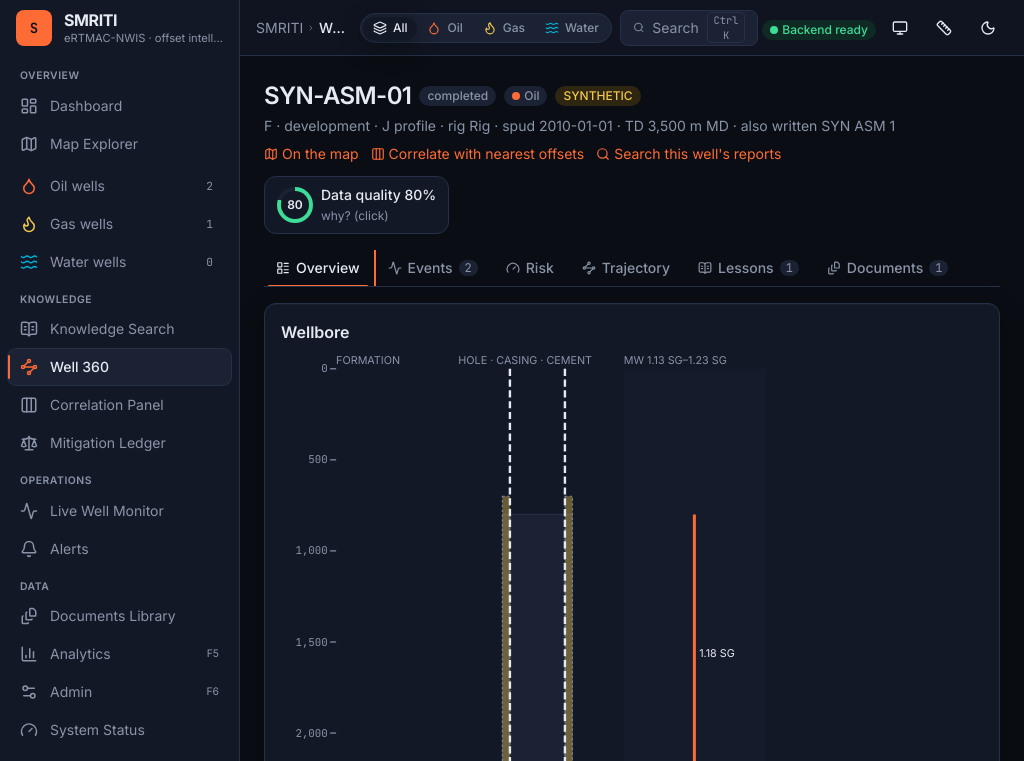
Test case: Well 360 › has lessons and documents tabs, and keyboard-navigable tabs
Press Arrowright Arrowright Arrowright {Arr
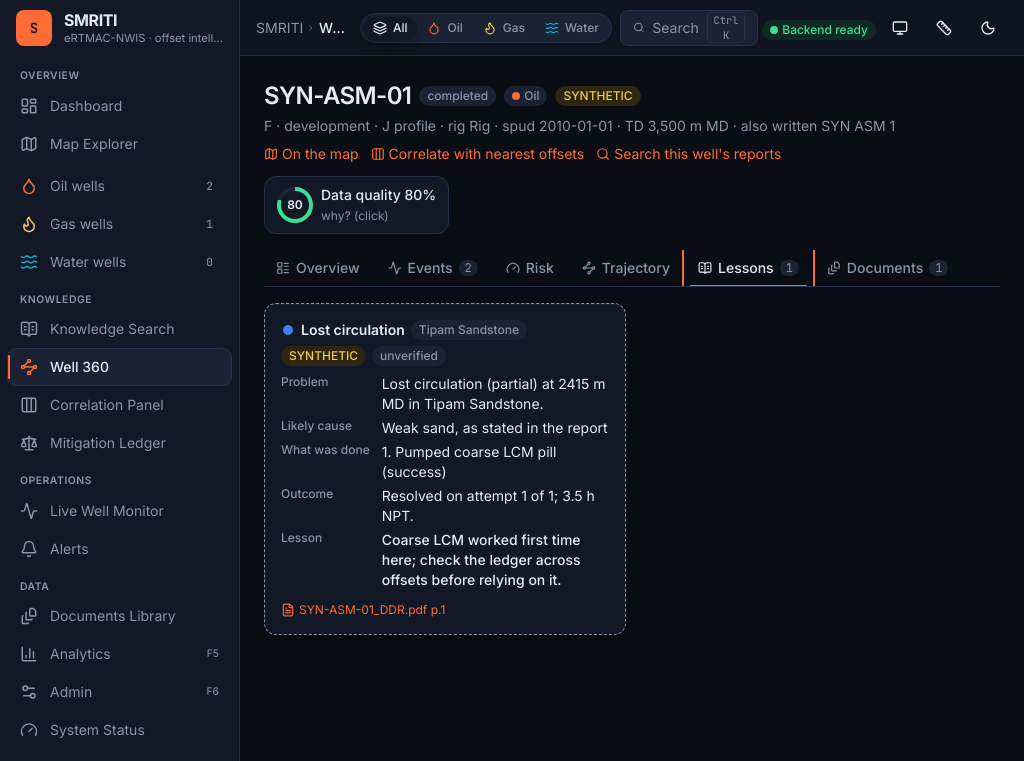
Check: the tab "Lessons 1" is selected, box [686,250,811,286]
Click the tab "Documents 1" at (888, 268), box [815,250,960,286]
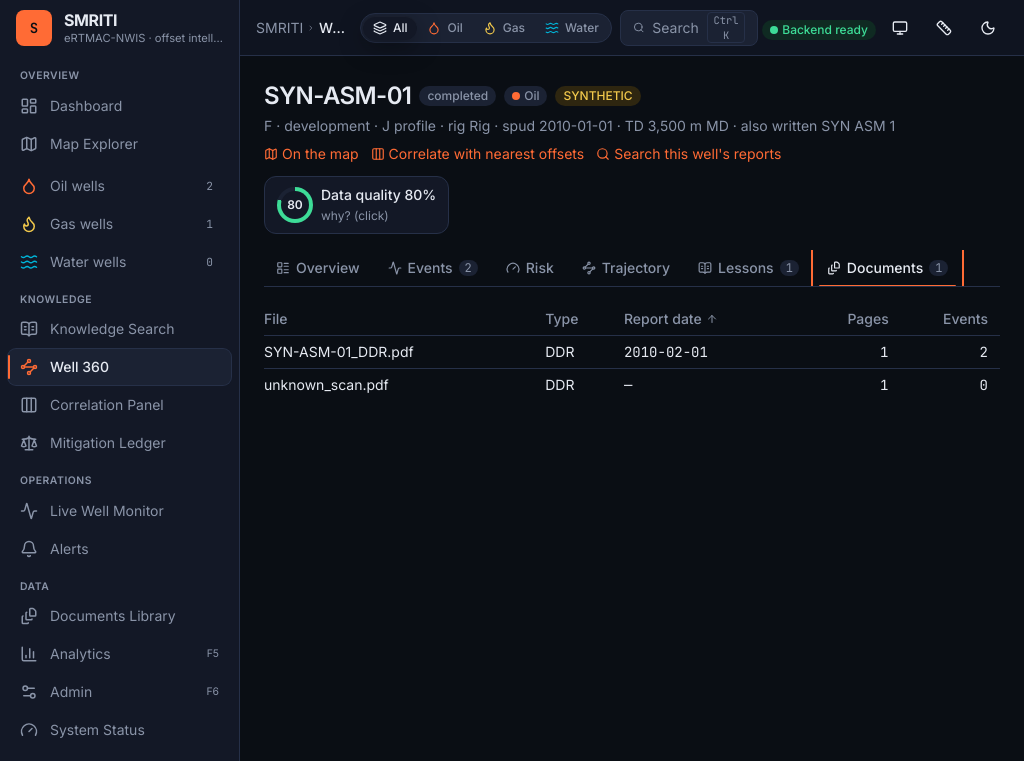
Check: the table with test id "well-documents" shows "SYN-ASM-01_DDR.pdf", box [264,343,414,360]
